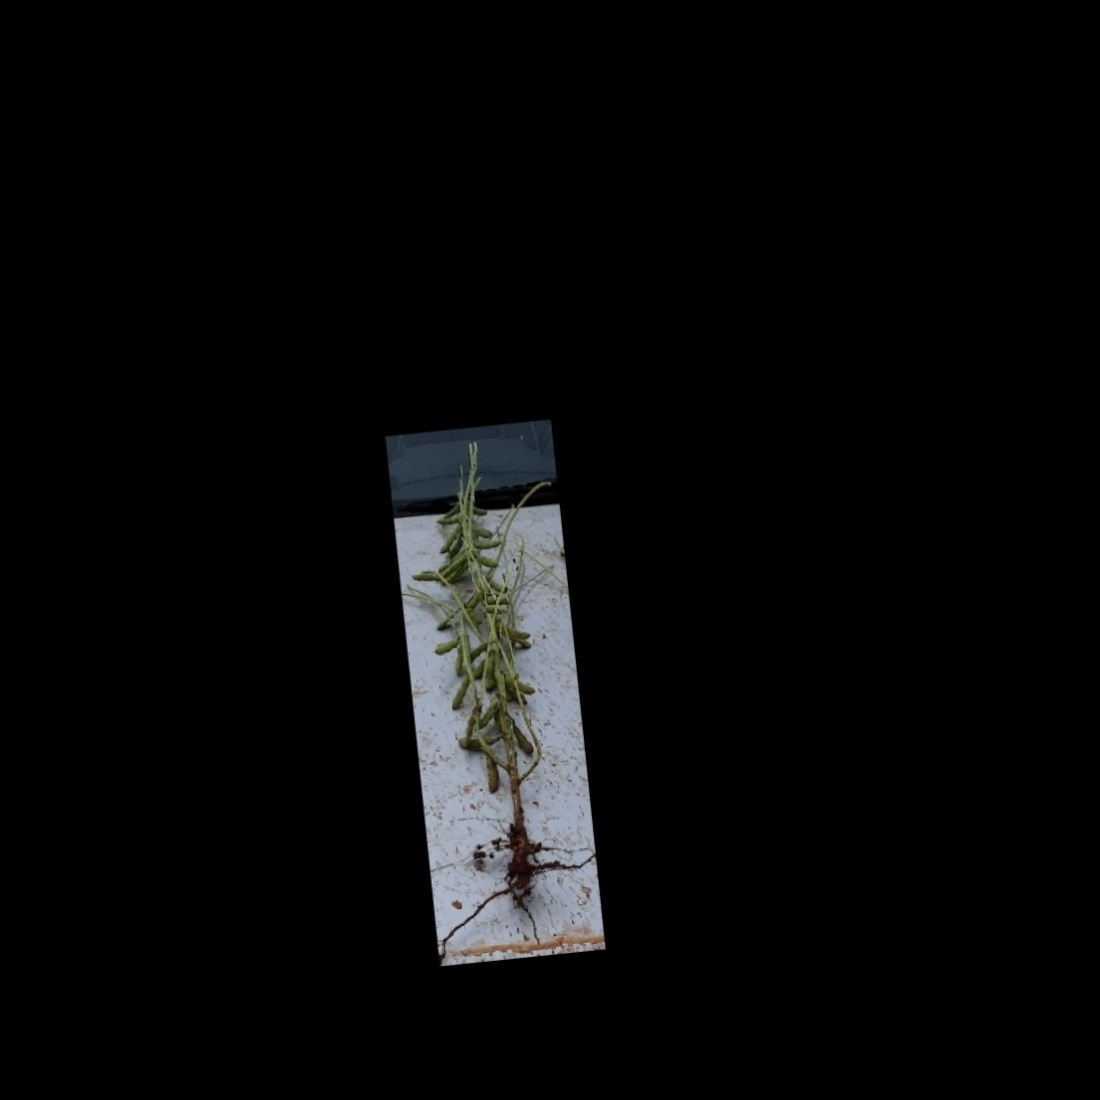pod: (443, 670, 478, 717), (503, 710, 535, 760), (477, 746, 505, 800), (433, 522, 465, 559), (427, 632, 467, 660), (460, 642, 492, 667), (472, 551, 501, 573), (433, 510, 466, 526), (468, 536, 503, 551)
soy: (392, 428, 591, 891)
